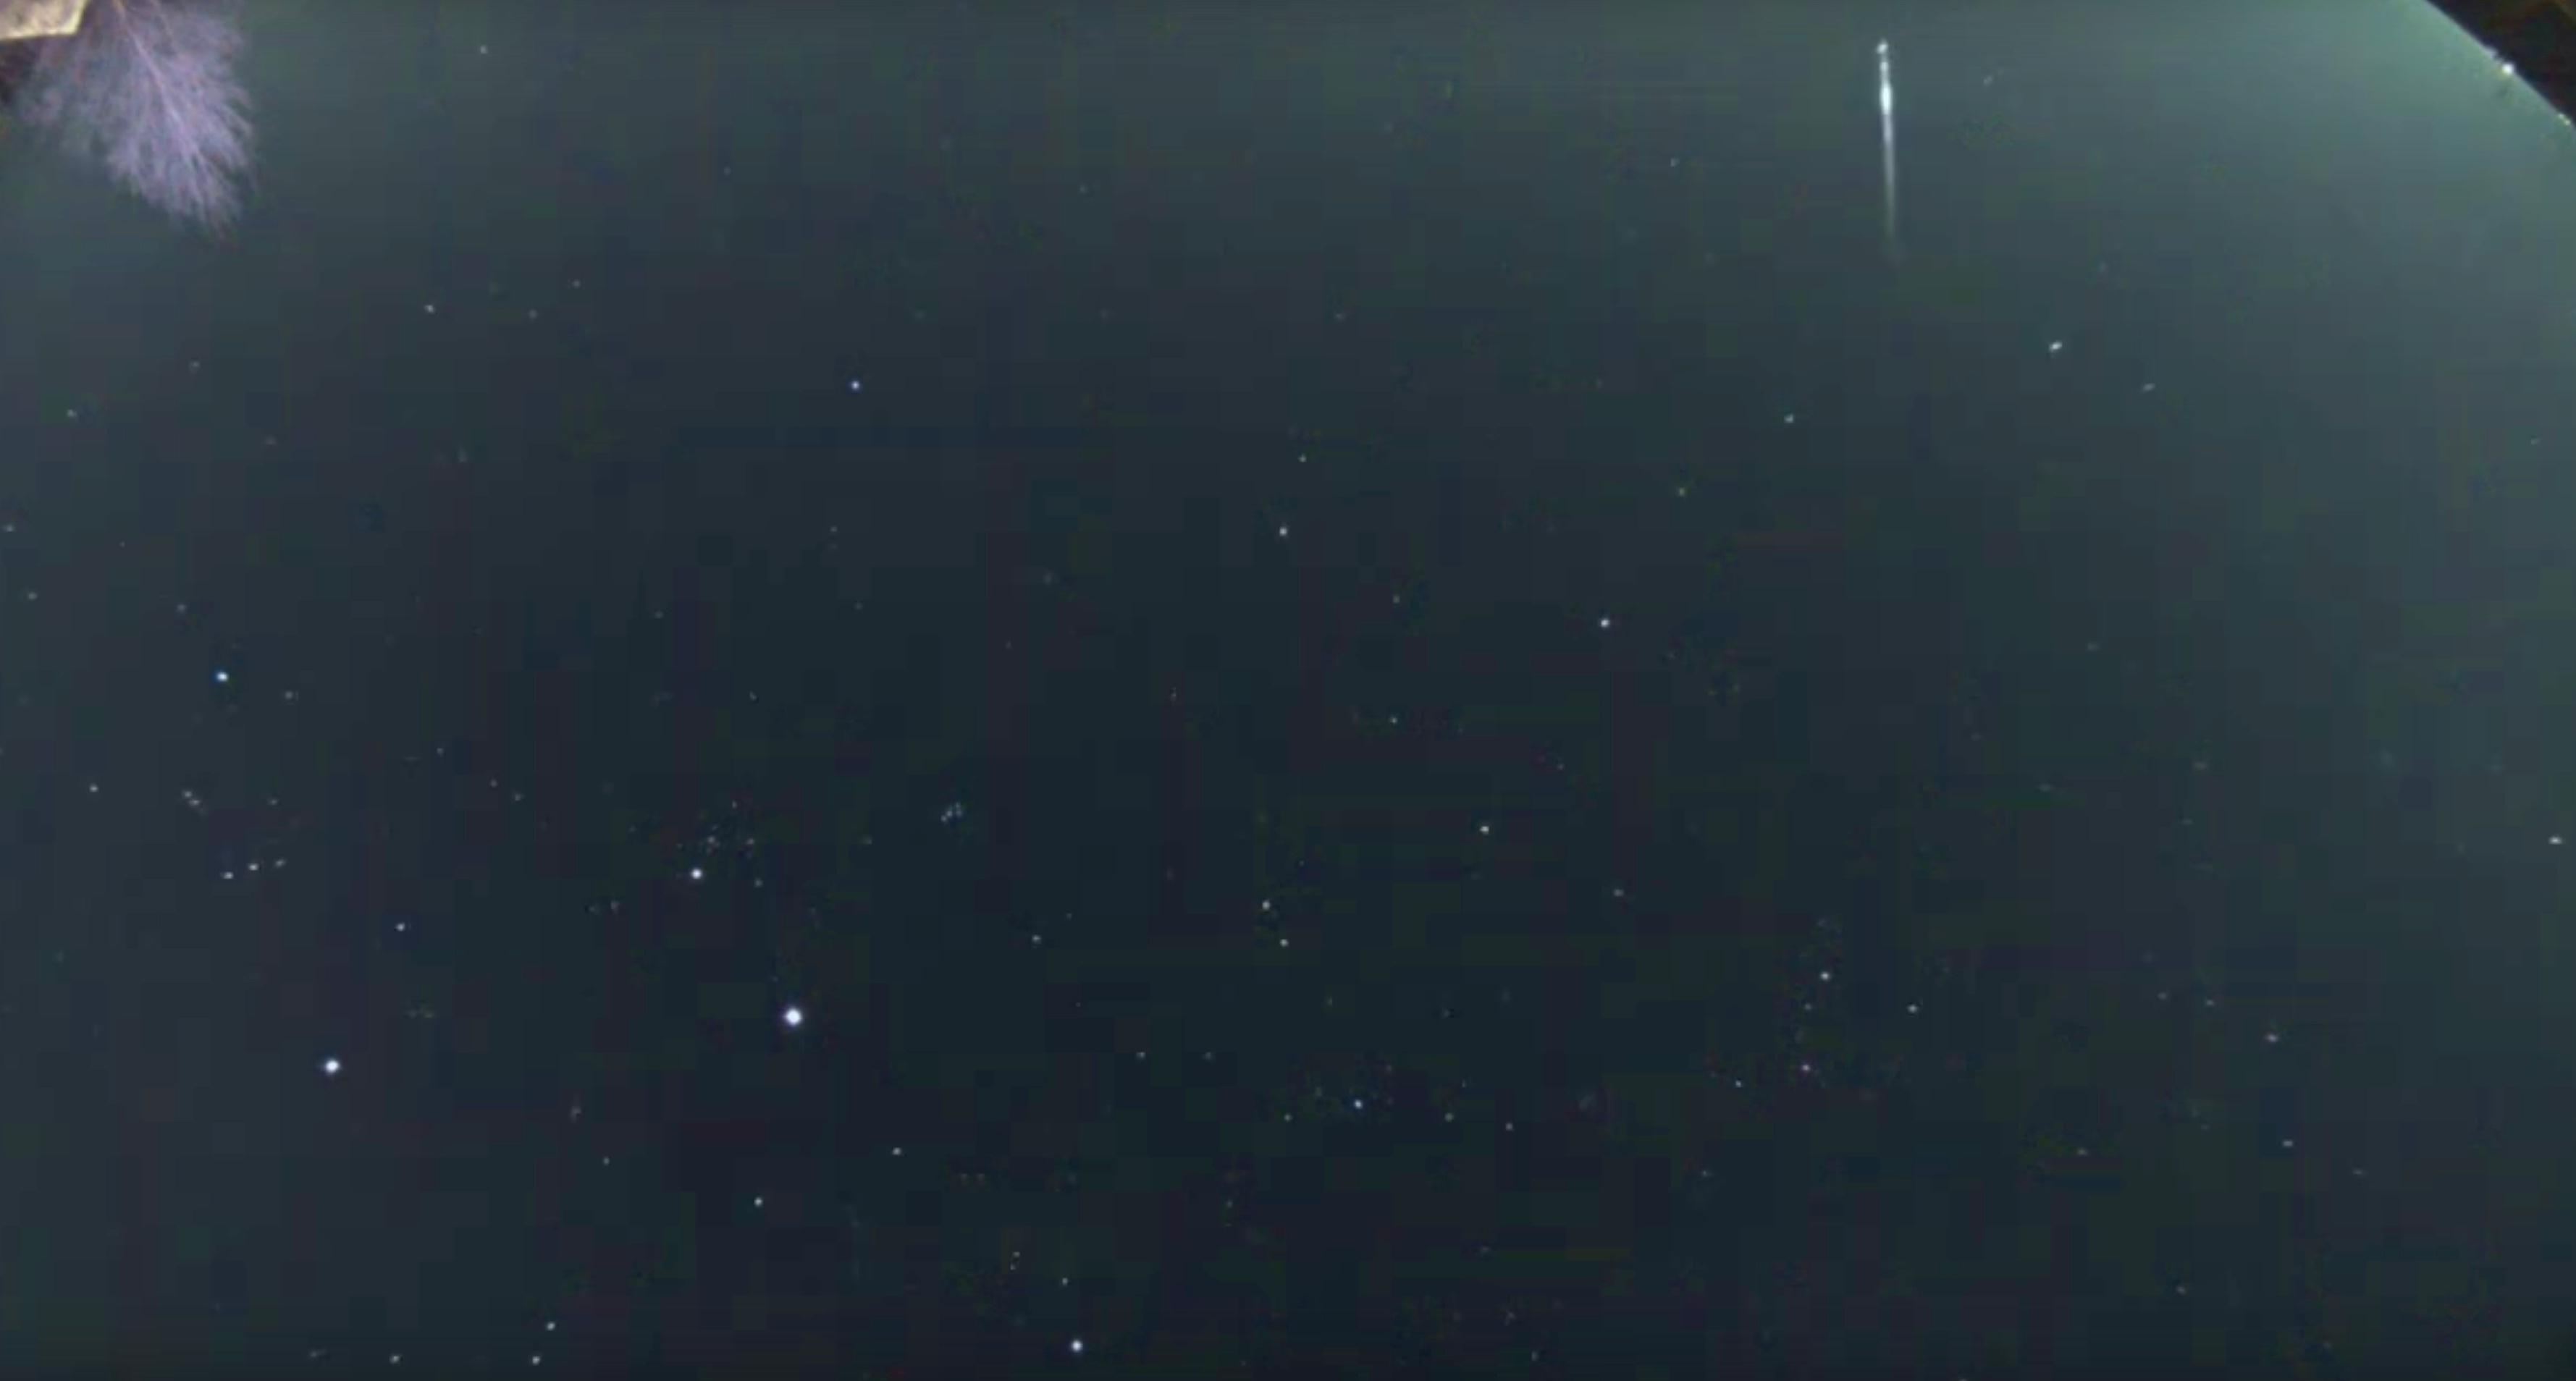meteorite: (1820, 27, 1958, 240)
